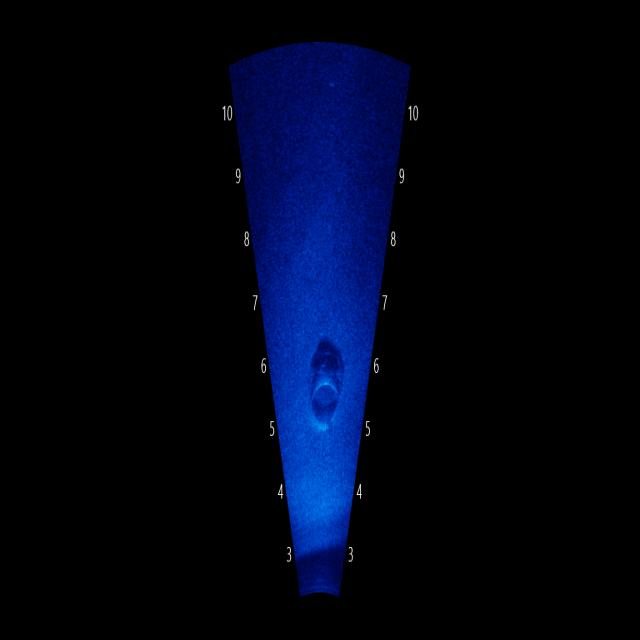circle: (301, 347, 348, 438)
